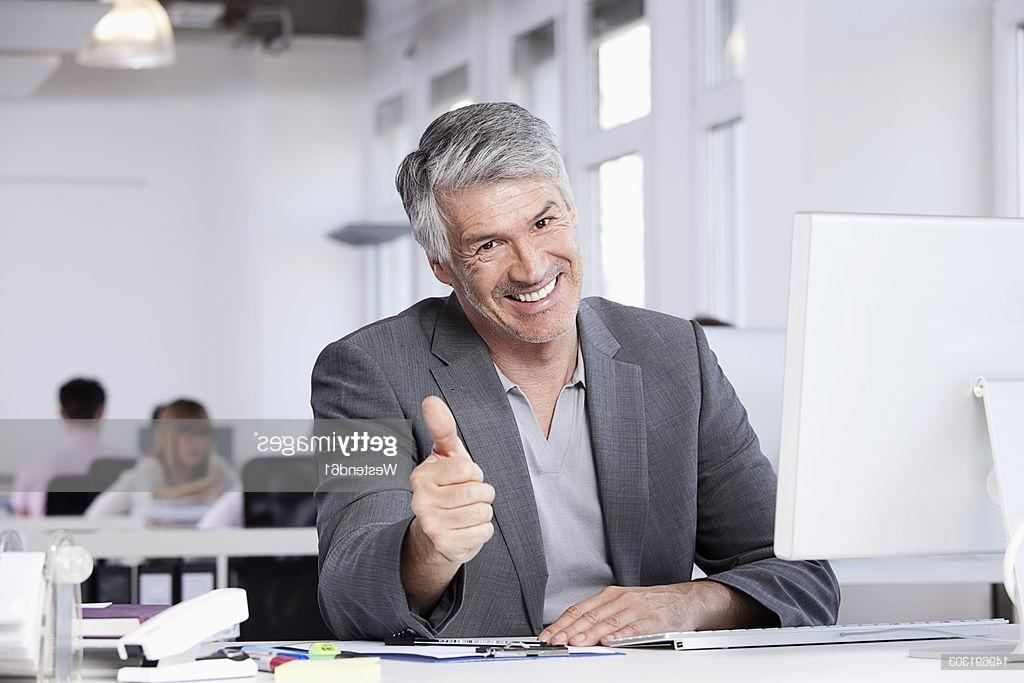thumbsup: (409, 395, 496, 552)
